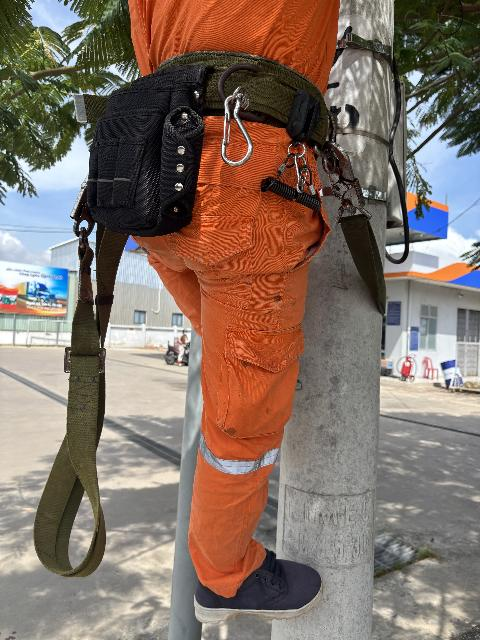harness: (100, 51, 371, 197)
shoes: (182, 546, 329, 626)
